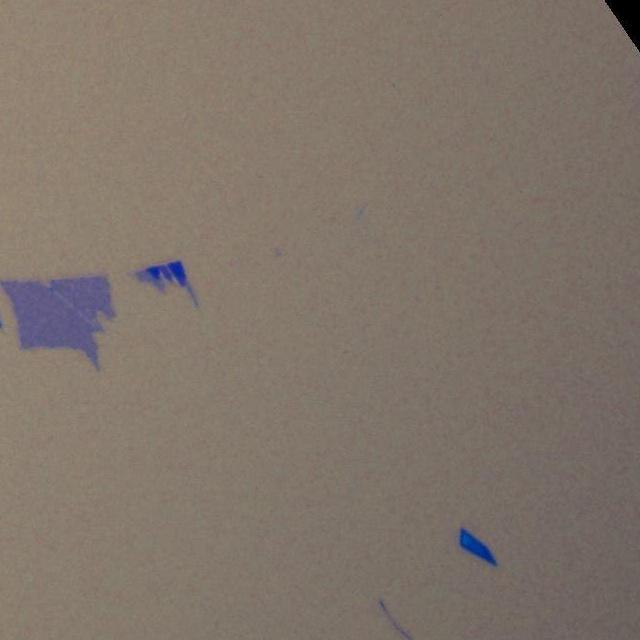monolayer-eWW4: (2, 273, 119, 358)
